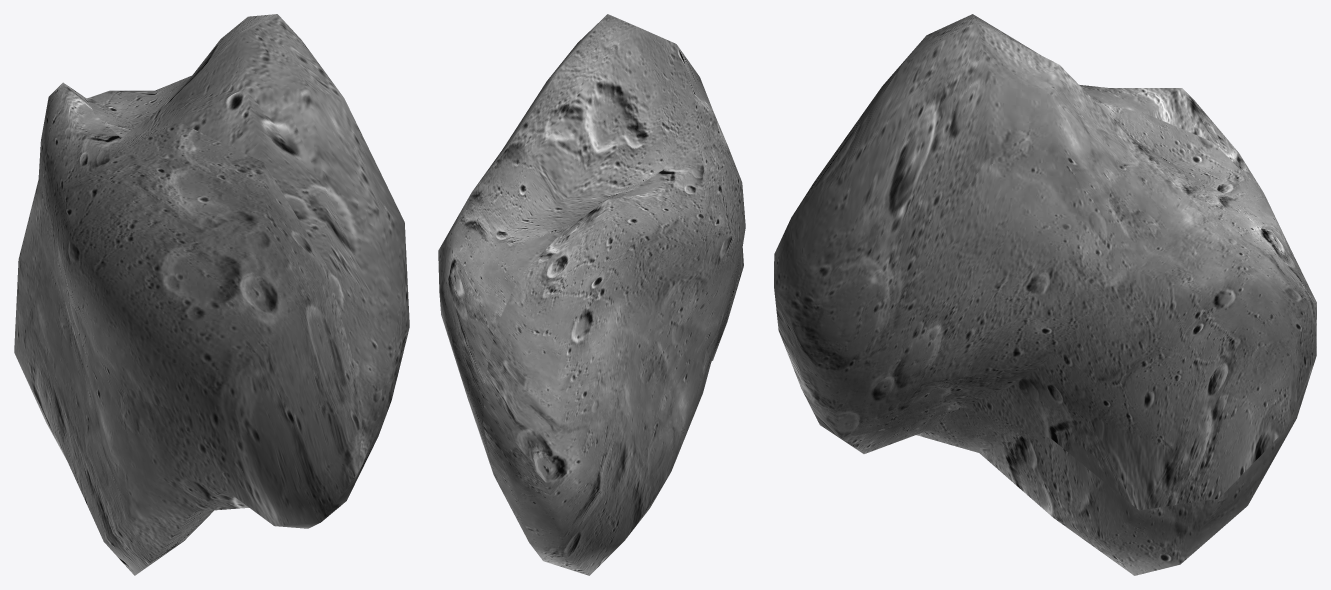
File: asteroid07.FBX
3 renders of one model, left to right at view 1: azimuth 30°, elevation 25°; view 2: azimuth 150°, elevation 25°; view 3: azimuth 270°, elevation 25°, orthographic. The views are drawn at different scales.
Parts seen in each view (by area): view 1: Asteroid007; view 2: Asteroid007; view 3: Asteroid007.
Part boxes in pixels (x1,y1,x2,y2): Asteroid007: [14, 14, 409, 575]; Asteroid007: [438, 14, 745, 575]; Asteroid007: [774, 14, 1316, 575].
Size of the model in its own units: 71.79 by 159 by 134.
1 material, 1 textured.
